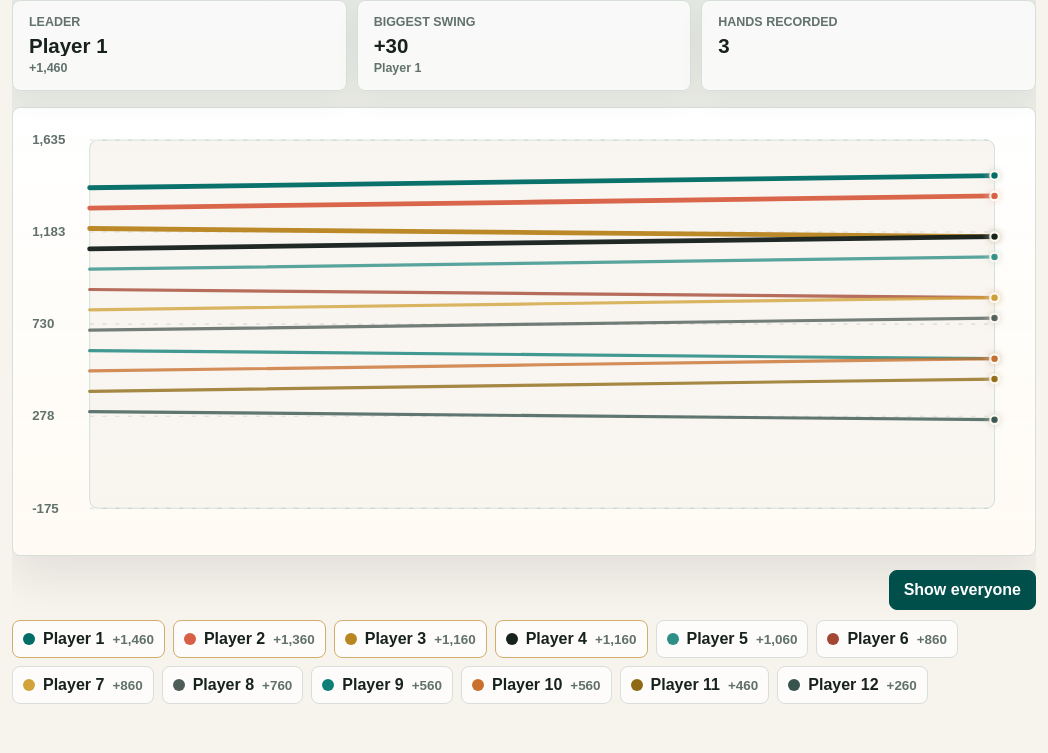
Test: PointsRaceChart › shows the top 12 players by default and can reveal everyone
The image size is (1048, 753).
Expected: the 3rd text "Player 1" is shown, [43,630,104,648]
Expected: the text "Player 12" is shown, [808,676,879,694]
Step 1. Click the button "Show everyone" → (962, 590), box [889,570,1036,610]
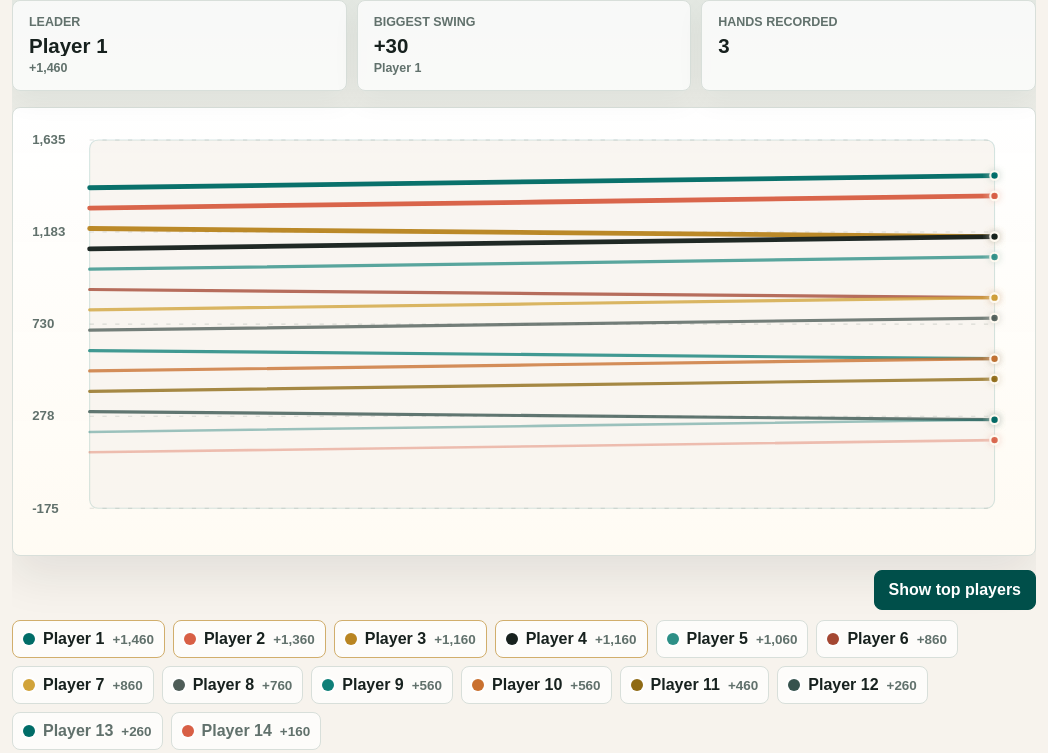
Expected: the text "Player 13" is shown, [43,722,113,740]
Expected: the text "Player 14" is shown, [202,722,272,740]
Expected: the button "Show top players" is shown, [874,570,1036,610]
